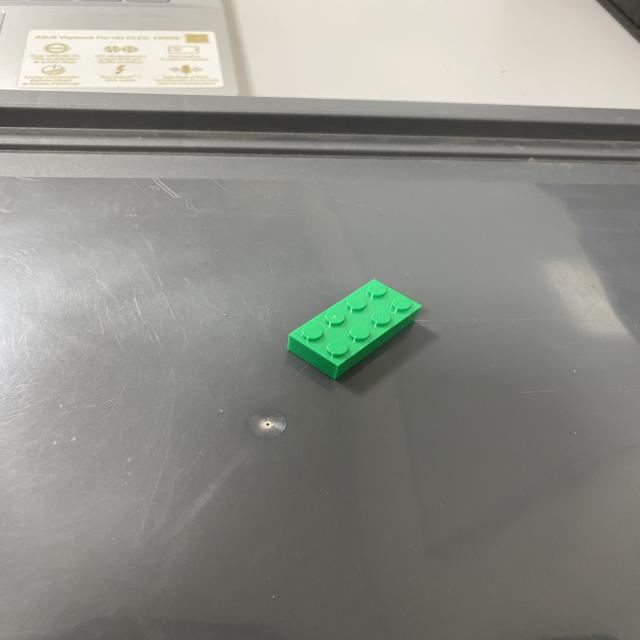C4x2x1: (279, 275, 423, 380)
